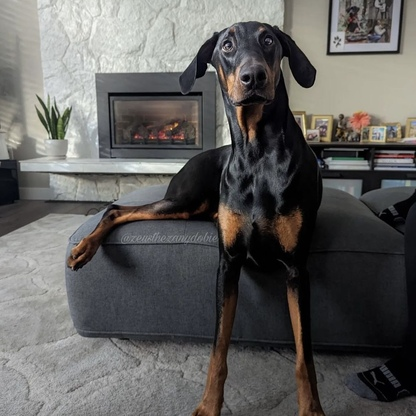doberman: (64, 21, 328, 411)
